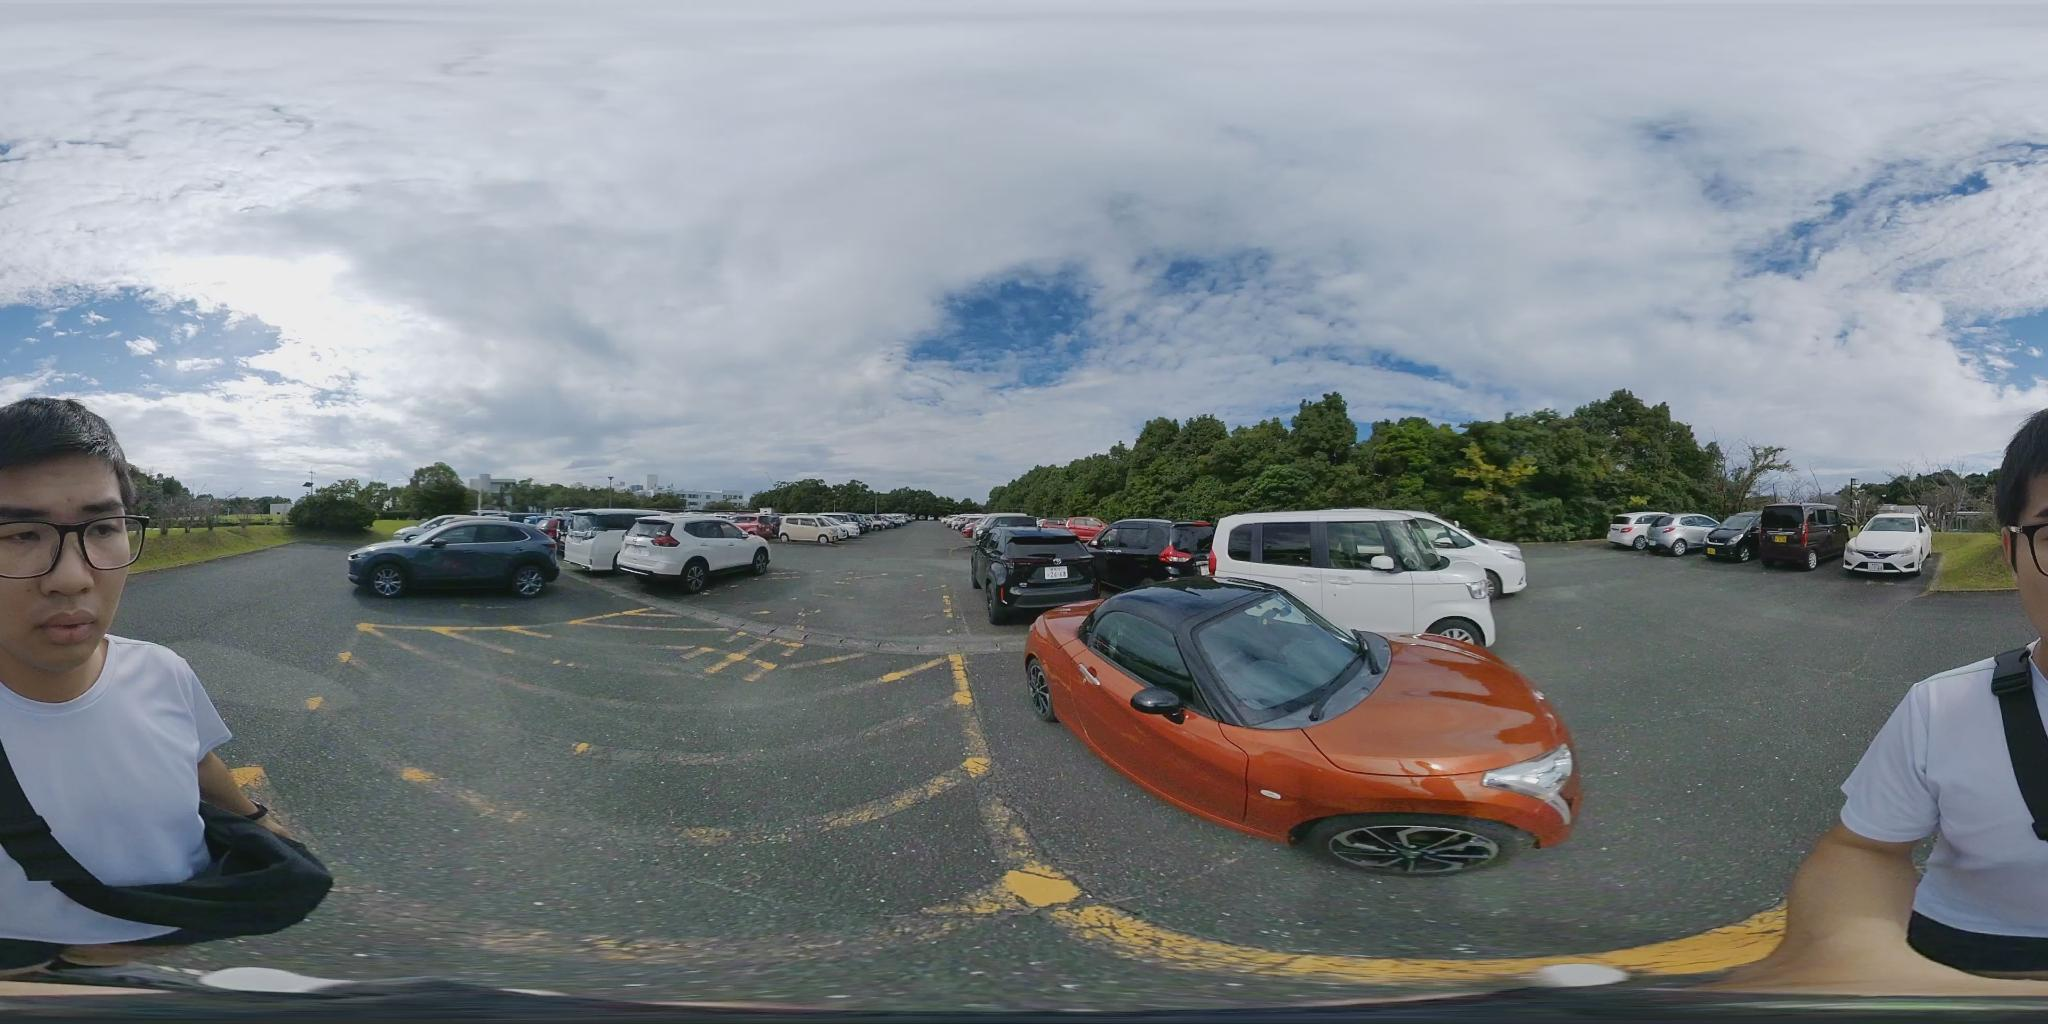car: (1017, 576, 1582, 878), (1202, 512, 1531, 649), (347, 521, 567, 600), (611, 517, 777, 590), (1403, 520, 1531, 598), (1707, 502, 1849, 568), (1842, 507, 1934, 573), (387, 512, 543, 542), (558, 509, 674, 549), (1630, 516, 1718, 556), (947, 513, 1037, 545), (1701, 519, 1759, 562), (771, 516, 845, 543), (798, 515, 866, 542), (1612, 516, 1664, 551), (827, 516, 874, 542), (735, 516, 782, 542), (536, 516, 572, 542), (863, 516, 906, 534), (867, 512, 906, 526)
